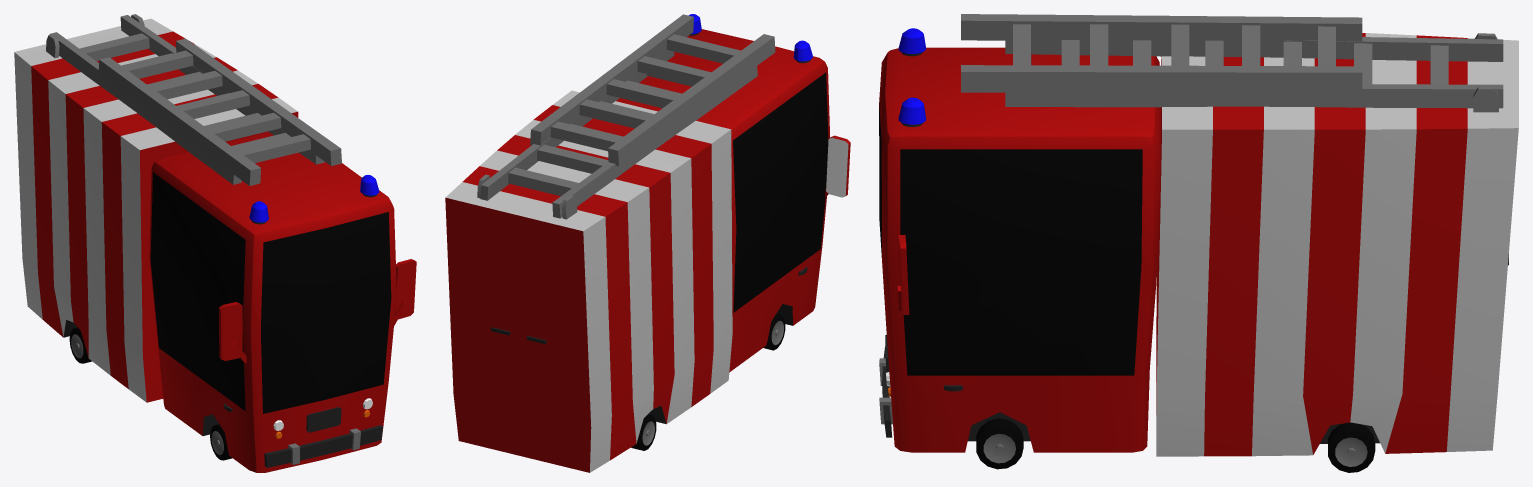
3 renders of one model, left to right at view 1: azimuth 30°, elevation 25°; view 2: azimuth 150°, elevation 25°; view 3: azimuth 270°, elevation 25°, orthographic. The views are drawn at different scales.
Parts seen in each view (by area): view 1: Cube, Cube.005, Cube.004, Cube.002, Cube.001, Cube.003, Cylinder.002, Cylinder.003; view 2: Cube.005, Cube, Cube.004, Cube.002, Cube.001, Cylinder.003, Cylinder.002; view 3: Cube.005, Cube, Cube.004, Cube.002, Cylinder, Cylinder.001, Cube.003, Cube.001.
Boxes of the visible parts, box(x1,y1,x2,y2) form: Cube: box(149, 131, 396, 472); Cube.005: box(14, 14, 298, 402); Cube.004: box(98, 38, 341, 185); Cube.002: box(49, 15, 324, 184); Cube.001: box(219, 259, 416, 363); Cube.003: box(264, 398, 382, 467); Cylinder.002: box(210, 424, 232, 460); Cylinder.003: box(69, 327, 91, 363); Cube.005: box(445, 90, 732, 472); Cube: box(616, 14, 830, 372); Cube.004: box(530, 14, 775, 166); Cube.002: box(480, 50, 757, 218); Cube.001: box(825, 135, 850, 197); Cylinder.003: box(631, 414, 656, 450); Cylinder.002: box(763, 313, 785, 350); Cube.005: box(1156, 33, 1518, 456); Cube: box(879, 28, 1161, 452); Cube.004: box(961, 14, 1362, 93); Cube.002: box(1005, 37, 1503, 108); Cylinder: box(976, 418, 1023, 469); Cylinder.001: box(1328, 422, 1375, 472); Cube.003: box(879, 346, 892, 437); Cube.001: box(897, 235, 909, 314).
Bounding box in the file's own units: 166 × 239 × 359.
1 material, 1 textured.
